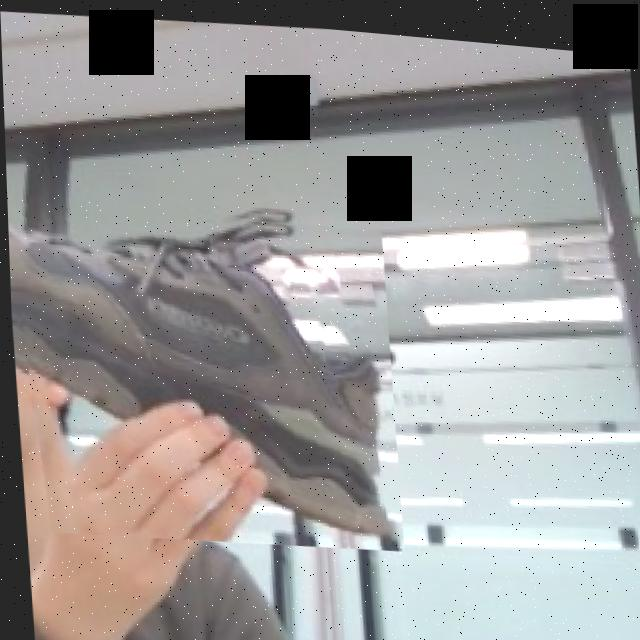shoe: (5, 181, 399, 557)
